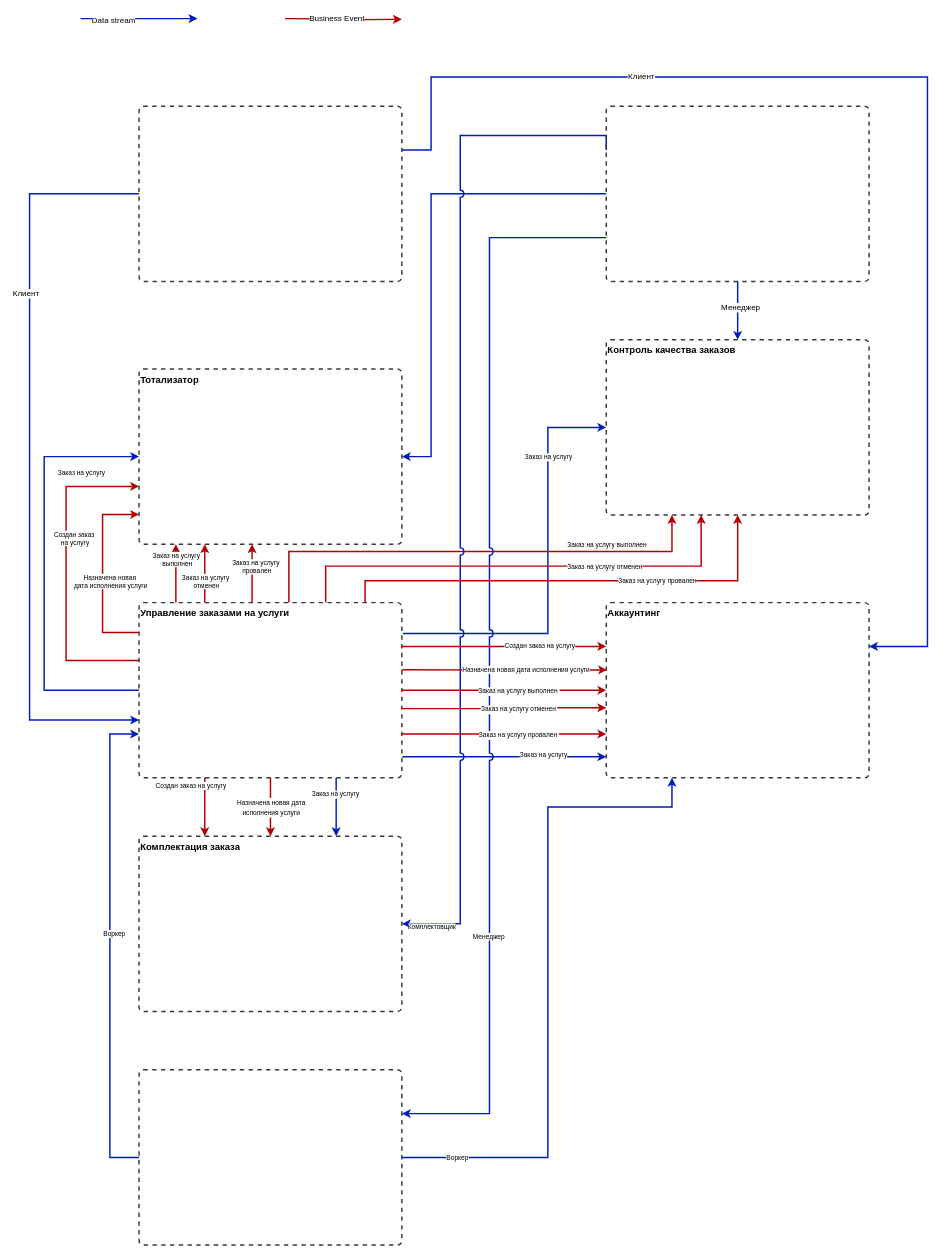
The diagram is 947 pixels wide and 1258 high, and some of its shapes have lost their labels. Here are the shapes that lost their labels. From the top down, the centre of each, then its label:
the point at 270,193: HR HCB
the point at 737,193: HR MCF
the point at 270,1157: Управление воркерами
